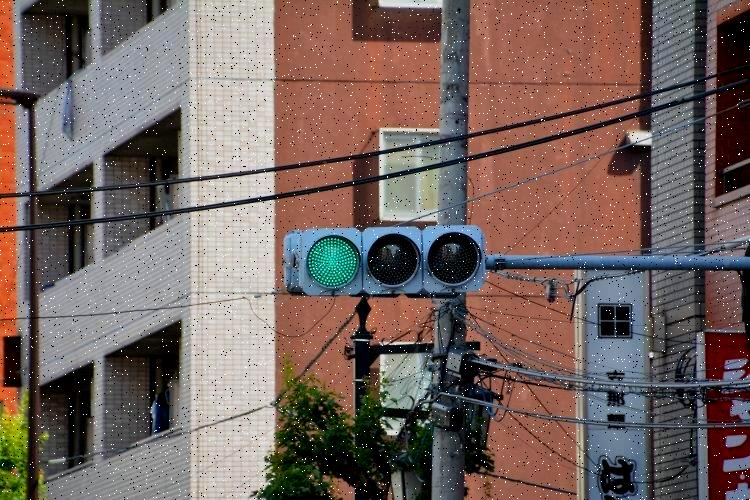cars: (296, 229, 487, 298)
